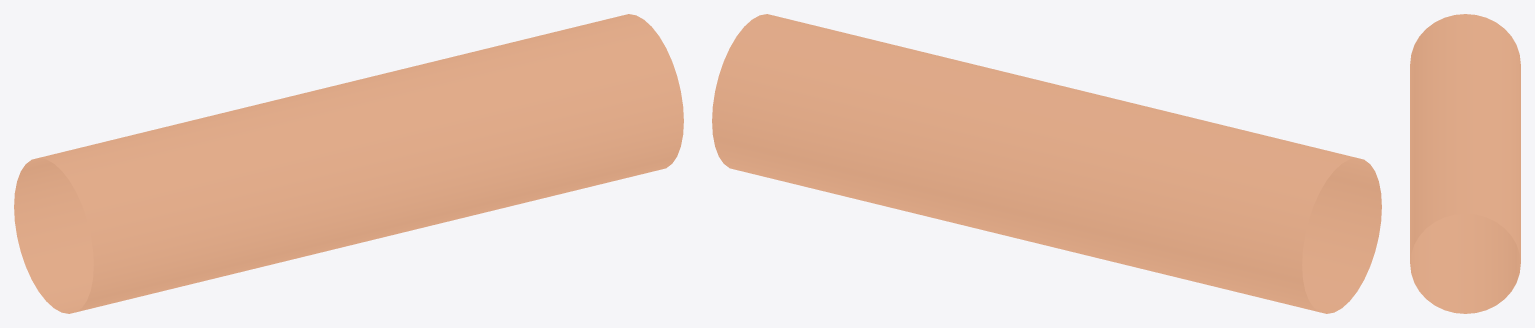
File: welder_beam.glb
3 renders of one model, left to right at view 1: azimuth 30°, elevation 25°; view 2: azimuth 150°, elevation 25°; view 3: azimuth 270°, elevation 25°, orthographic. The views are drawn at different scales.
Parts seen in each view (by area): view 1: welder_beam; view 2: welder_beam; view 3: welder_beam.
Part boxes in pixels (left/top/right/bottom): welder_beam: left=14, top=14, right=683, bottom=313; welder_beam: left=712, top=14, right=1381, bottom=313; welder_beam: left=1410, top=14, right=1520, bottom=313.
Bounding box in the file's own units: 1 × 0.2343 × 0.2343.
